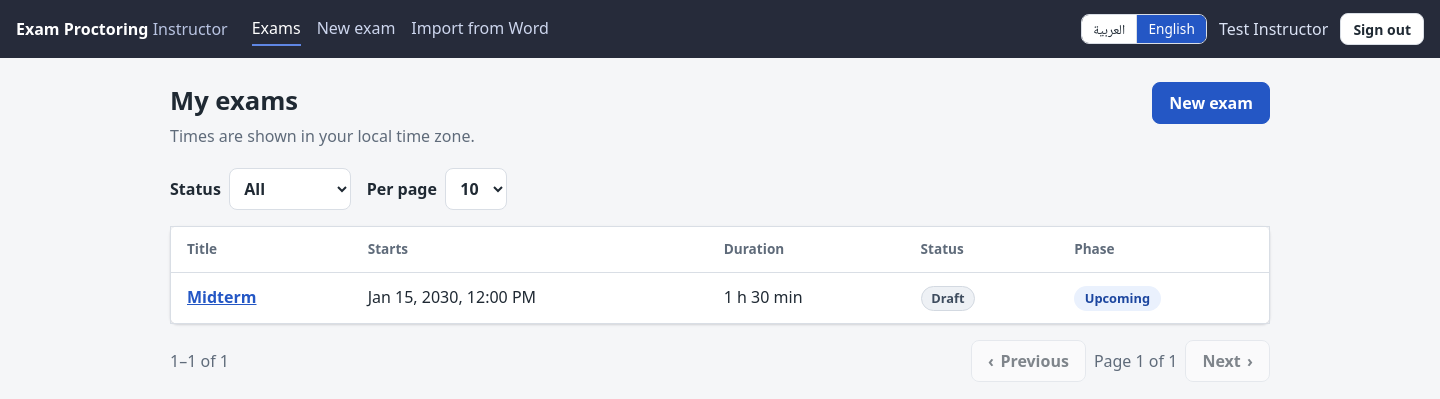
language switching in the running app › formats the exam start in the active language
The width and height of the screenshot is (1440, 399).
Expected: the link "Midterm" is shown, [187, 286, 256, 308]
Expected: the text "Jan 15, 2030, 12:00 PM" is shown, [352, 272, 708, 323]
Step 1. Click the button "العربية" → point(1109, 29), box [1082, 15, 1136, 43]
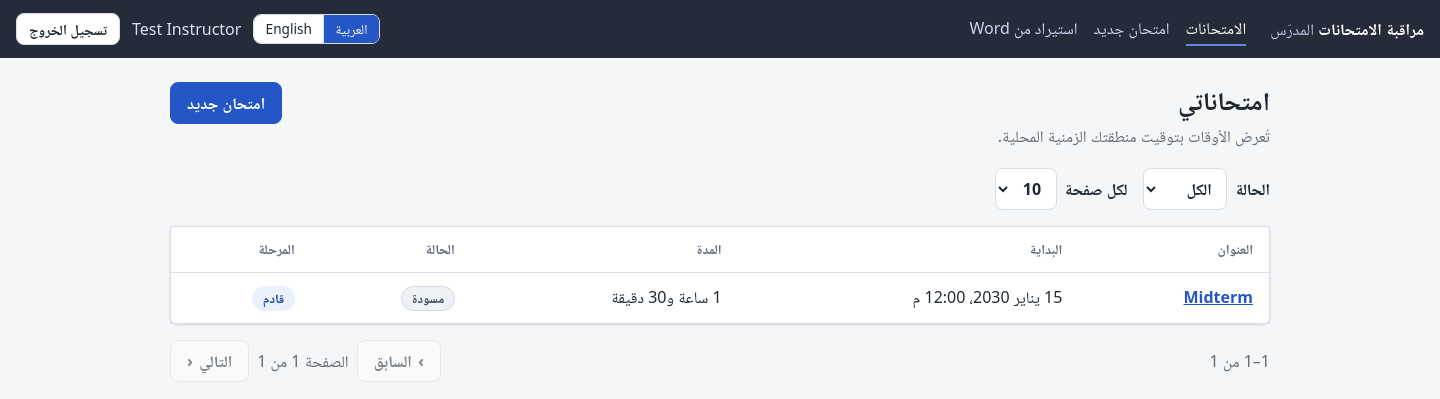
Result: the text "15 يناير 2030، 12:00 م" is shown at [738, 272, 1078, 323]
